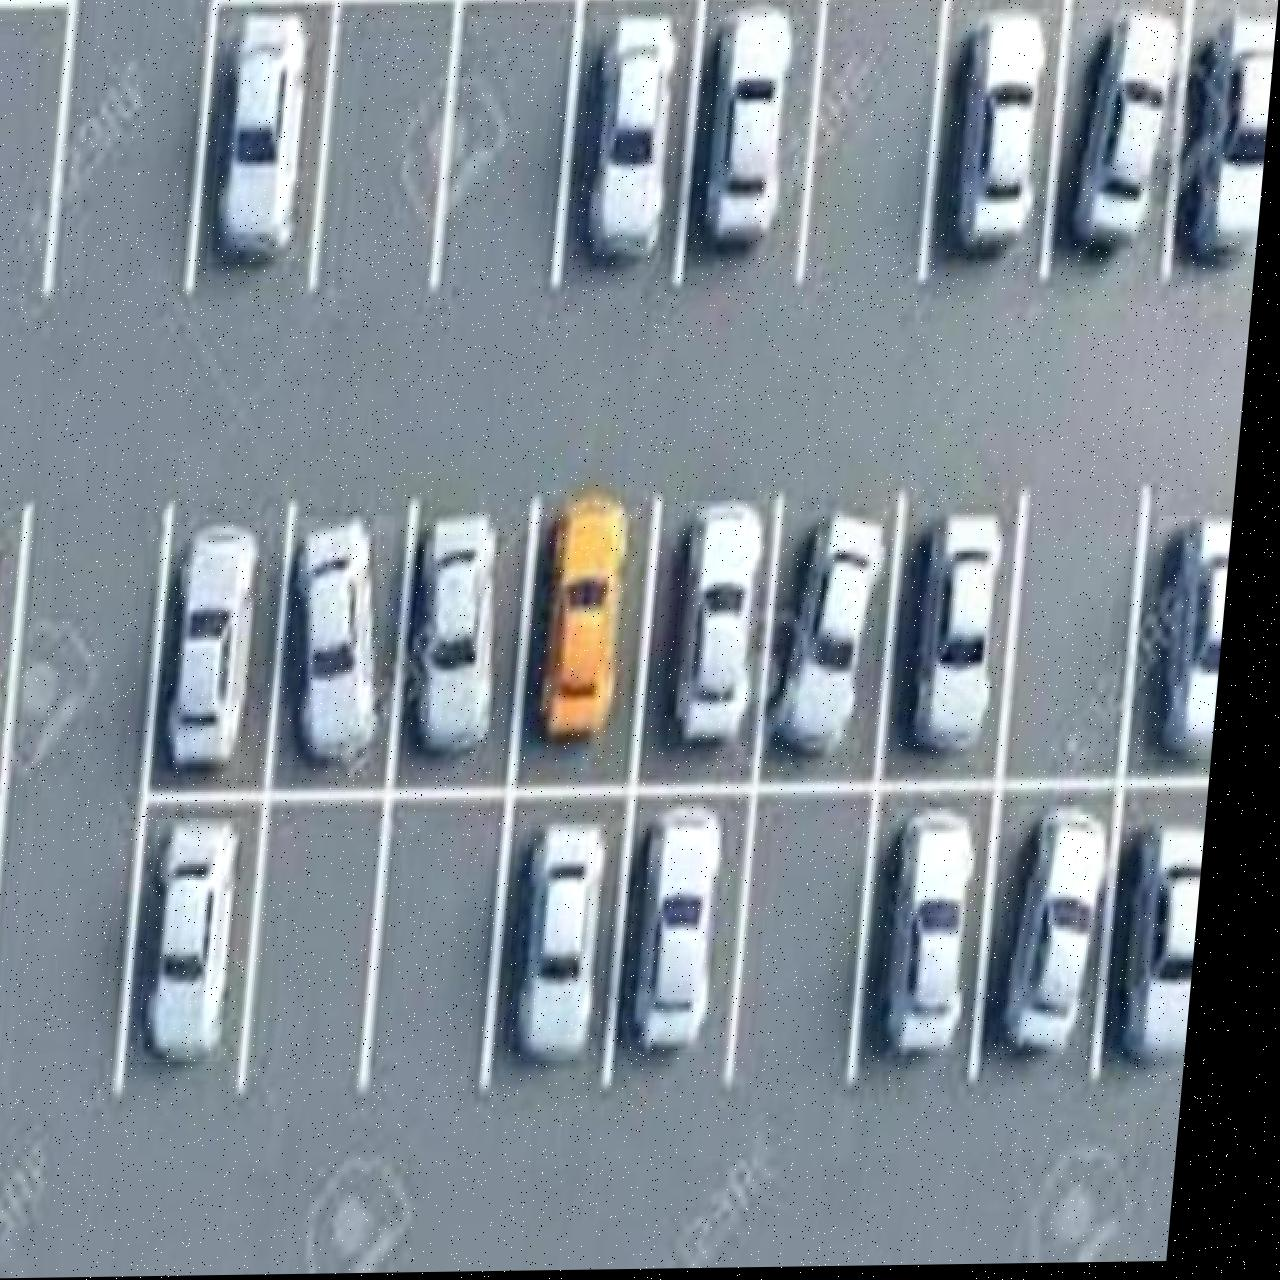car: (781, 513, 899, 758), (291, 517, 406, 765), (1071, 12, 1183, 258), (1017, 809, 1126, 1057), (1176, 13, 1276, 277), (211, 13, 315, 264), (413, 513, 518, 756), (581, 16, 682, 267), (640, 805, 741, 1056), (896, 810, 996, 1058), (545, 490, 644, 743), (952, 12, 1053, 257), (156, 818, 257, 1063), (697, 7, 797, 252), (172, 523, 271, 769), (681, 503, 778, 745), (919, 516, 1015, 755), (527, 826, 624, 1063), (1126, 825, 1219, 1065), (1151, 519, 1240, 764), (1216, 15, 1276, 168), (0, 519, 14, 768)
